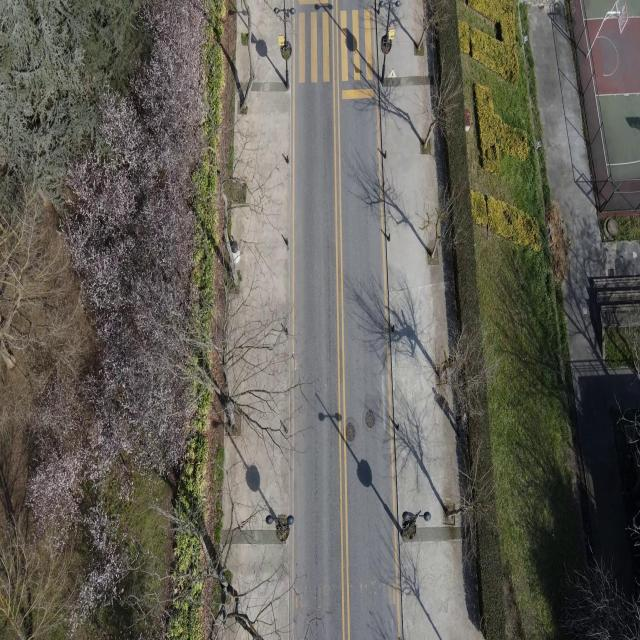p3rson: (455, 416, 460, 438)
